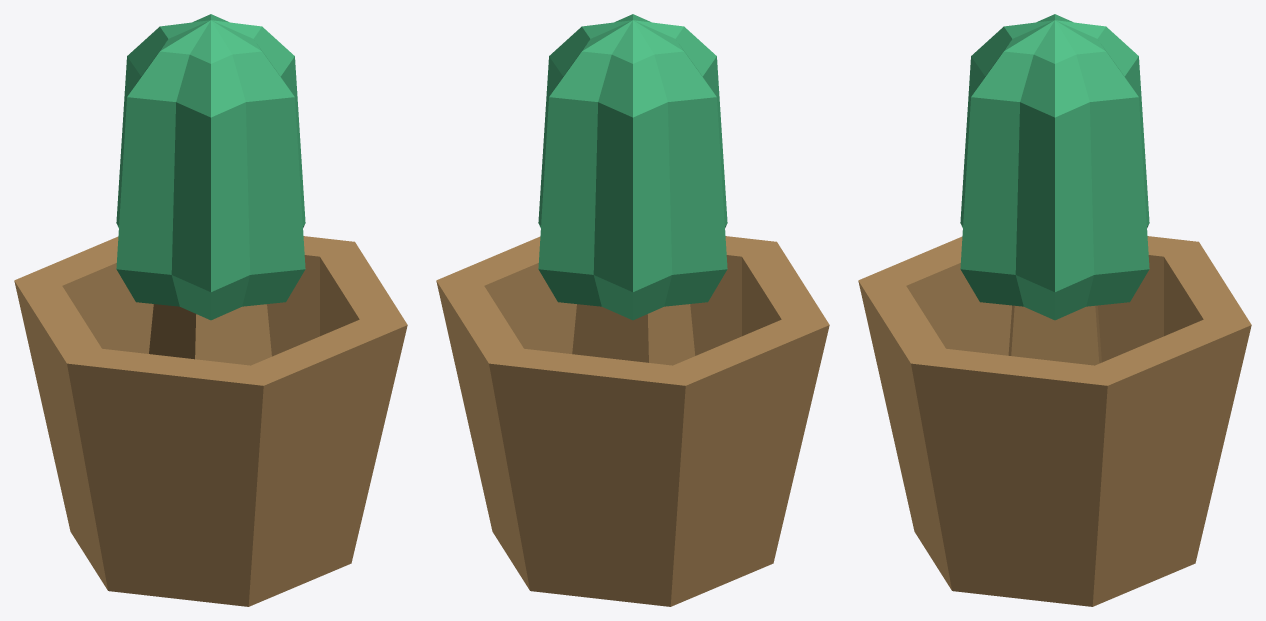
Rendered from plantSmall2.glb.
3 renders of one model, left to right at view 1: azimuth 30°, elevation 25°; view 2: azimuth 150°, elevation 25°; view 3: azimuth 270°, elevation 25°, orthographic.
Parts seen in each view (by area): view 1: plantSmall2; view 2: plantSmall2; view 3: plantSmall2.
Boxes of the visible parts, <box> form: plantSmall2: <box>14,14,407,606</box>; plantSmall2: <box>436,14,829,606</box>; plantSmall2: <box>858,14,1251,606</box>.
Size of the model in its own units: 0.1893 by 0.28 by 0.1893.
